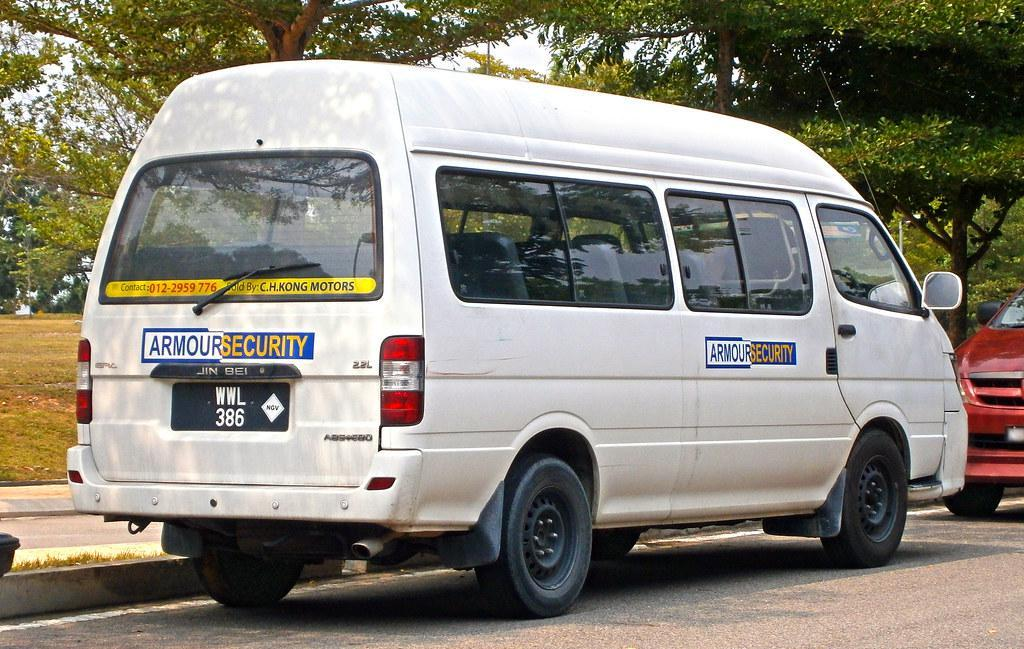Van: (77, 53, 974, 596)
